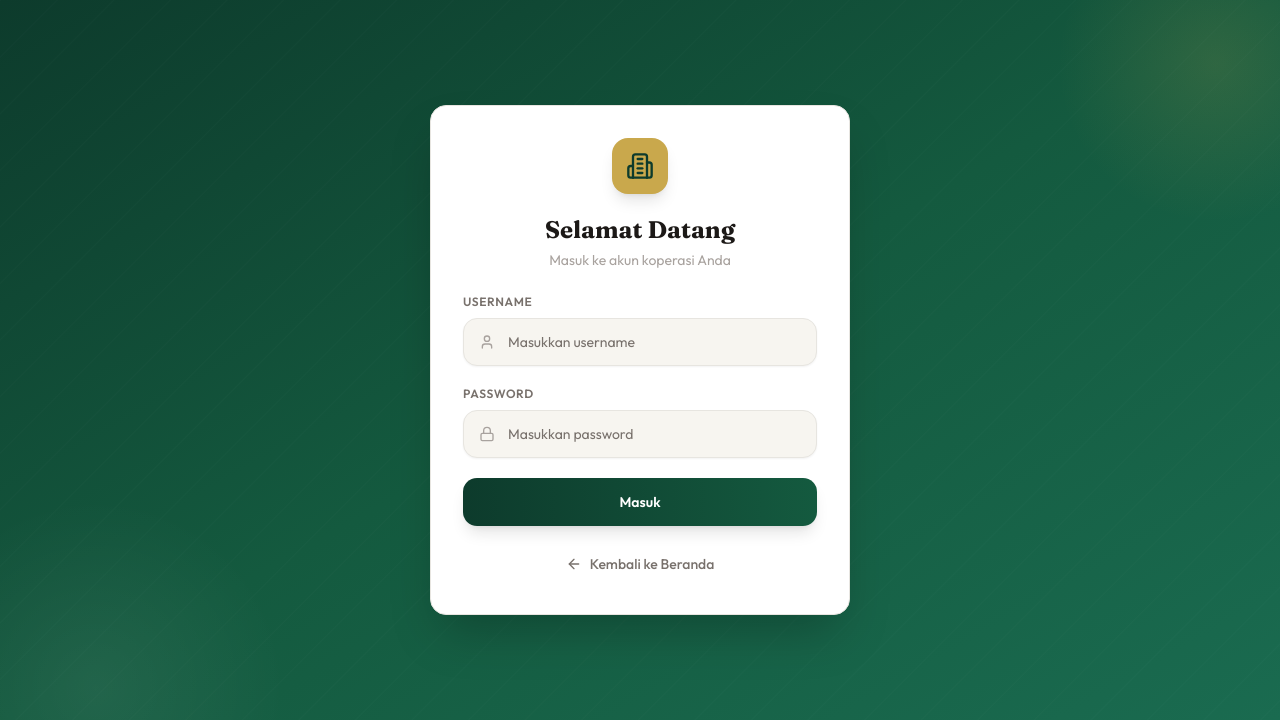
Scenario: Login Page › Validasi Form › menampilkan error jika password kurang dari 6 karakter
The width and height of the screenshot is (1280, 720).
In the field labelled "Username": {"x": 640, "y": 342} [463,318,817,366], type "johndoe"
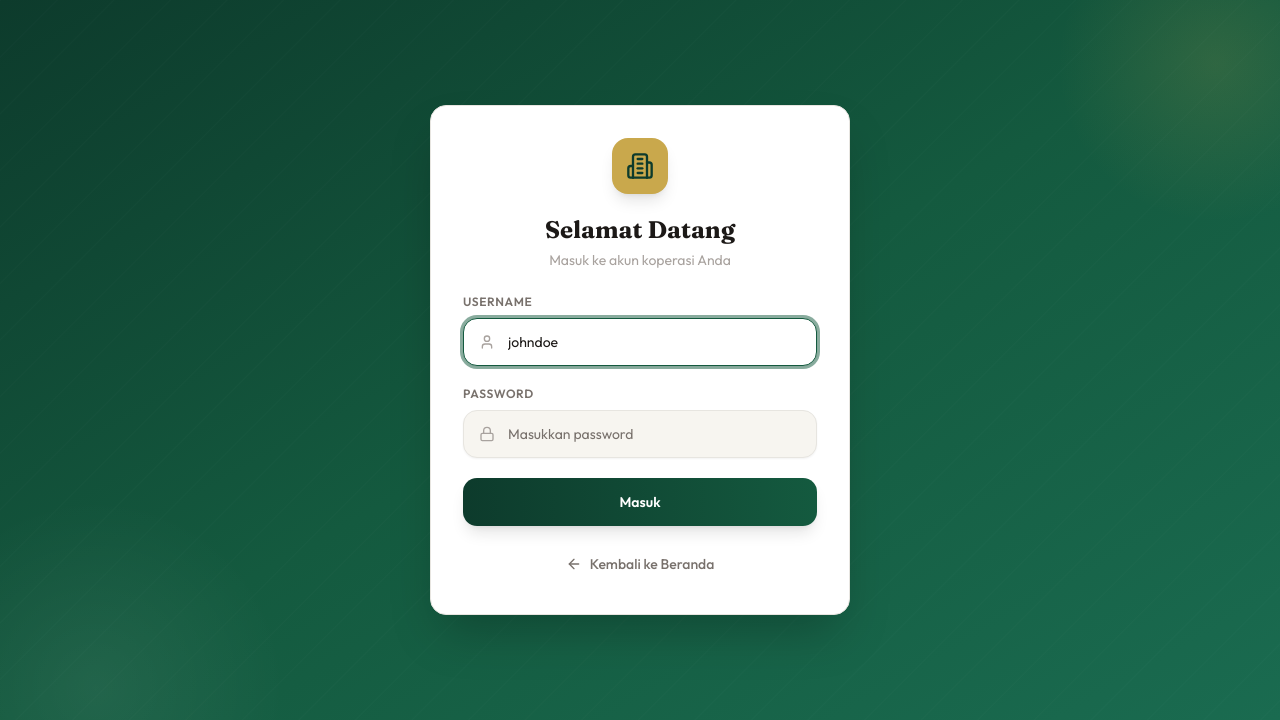
In the password field labelled "Password": {"x": 640, "y": 434} [463,410,817,458], type "abc"
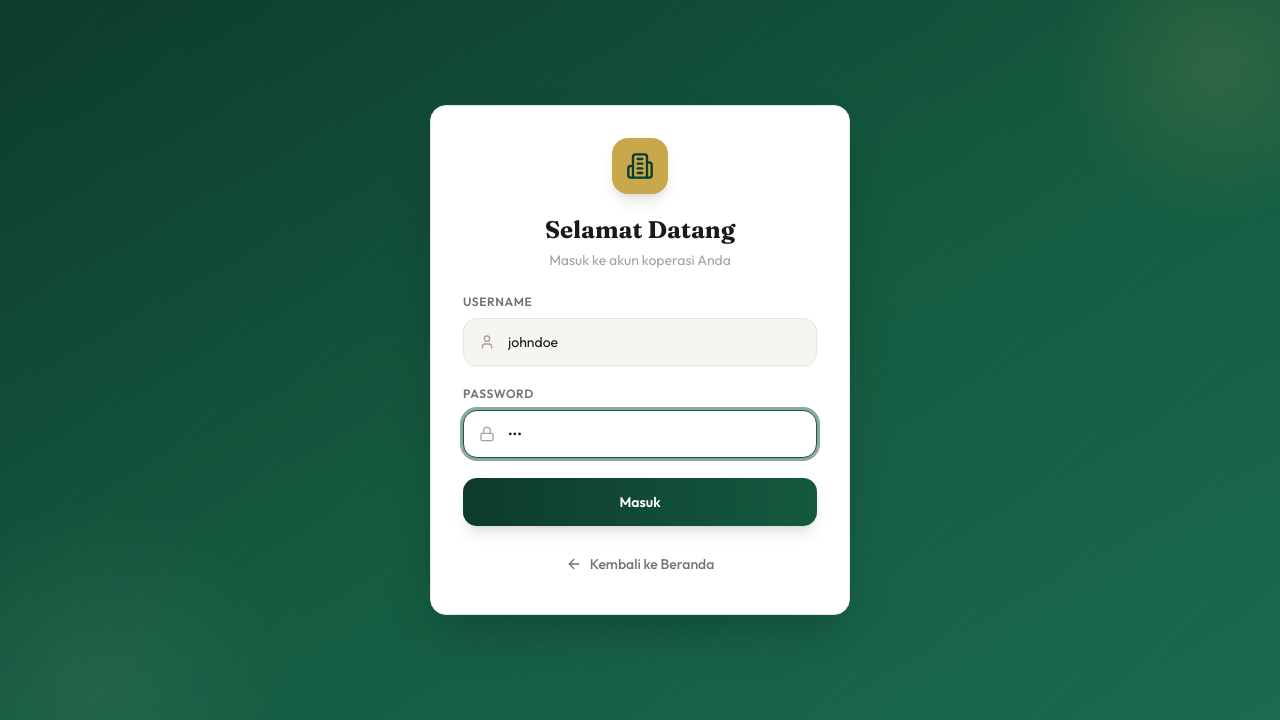
Click the button "Masuk": {"x": 640, "y": 502} [463,478,817,526]
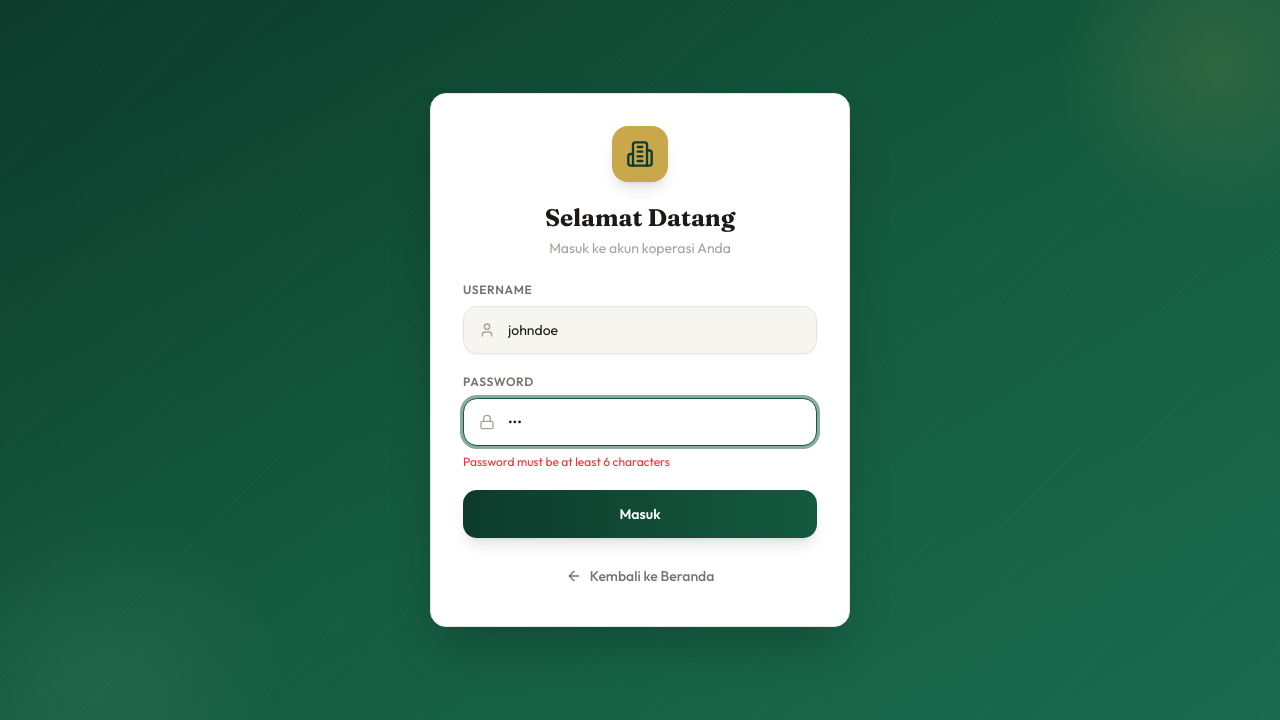
Expected: the text "Password must be at least 6 characters" is shown, [463,454,670,469]
